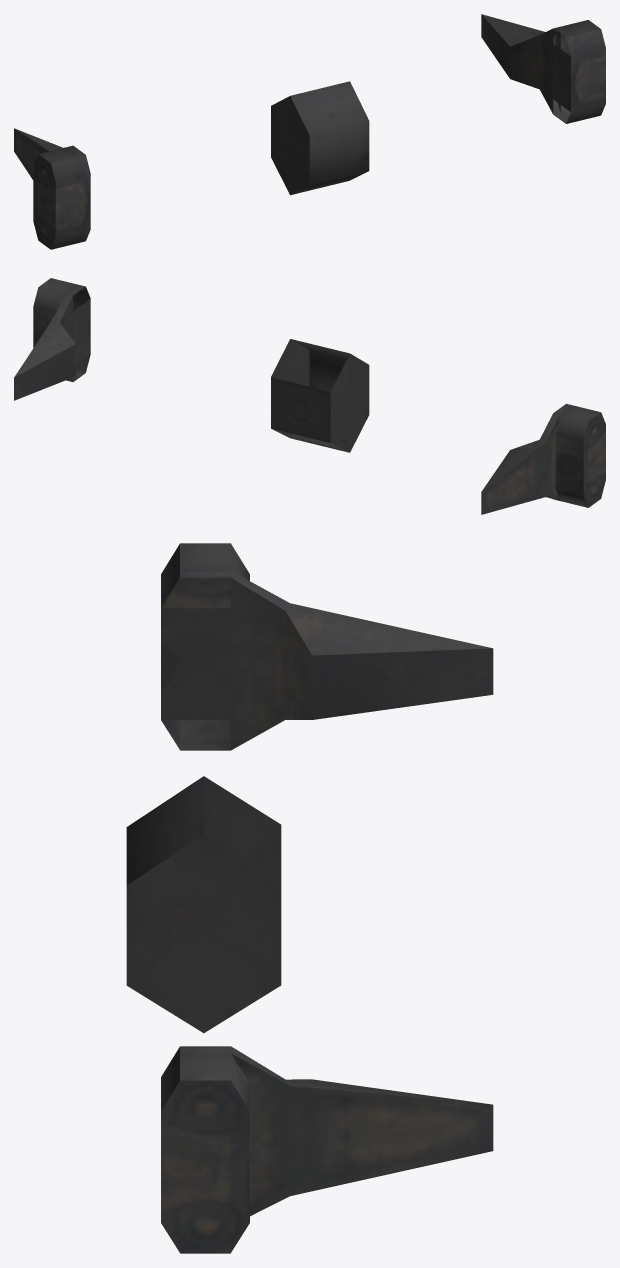
3 renders of one model, top to bottom at view 1: azimuth 30°, elevation 25°; view 2: azimuth 150°, elevation 25°; view 3: azimuth 270°, elevation 25°, orthographic. The views are drawn at different scales.
Parts seen in each view (by area): view 1: set_0_group_0; view 2: set_0_group_0; view 3: set_0_group_0.
Boxes of the visible parts, x1,y1,x2,y2 form: set_0_group_0: [14, 14, 605, 249]; set_0_group_0: [14, 278, 605, 514]; set_0_group_0: [126, 543, 493, 1253].
Size of the model in its own units: 0.6544 by 0.113 by 0.1889.
Materials: 1 (1 with a texture image).
